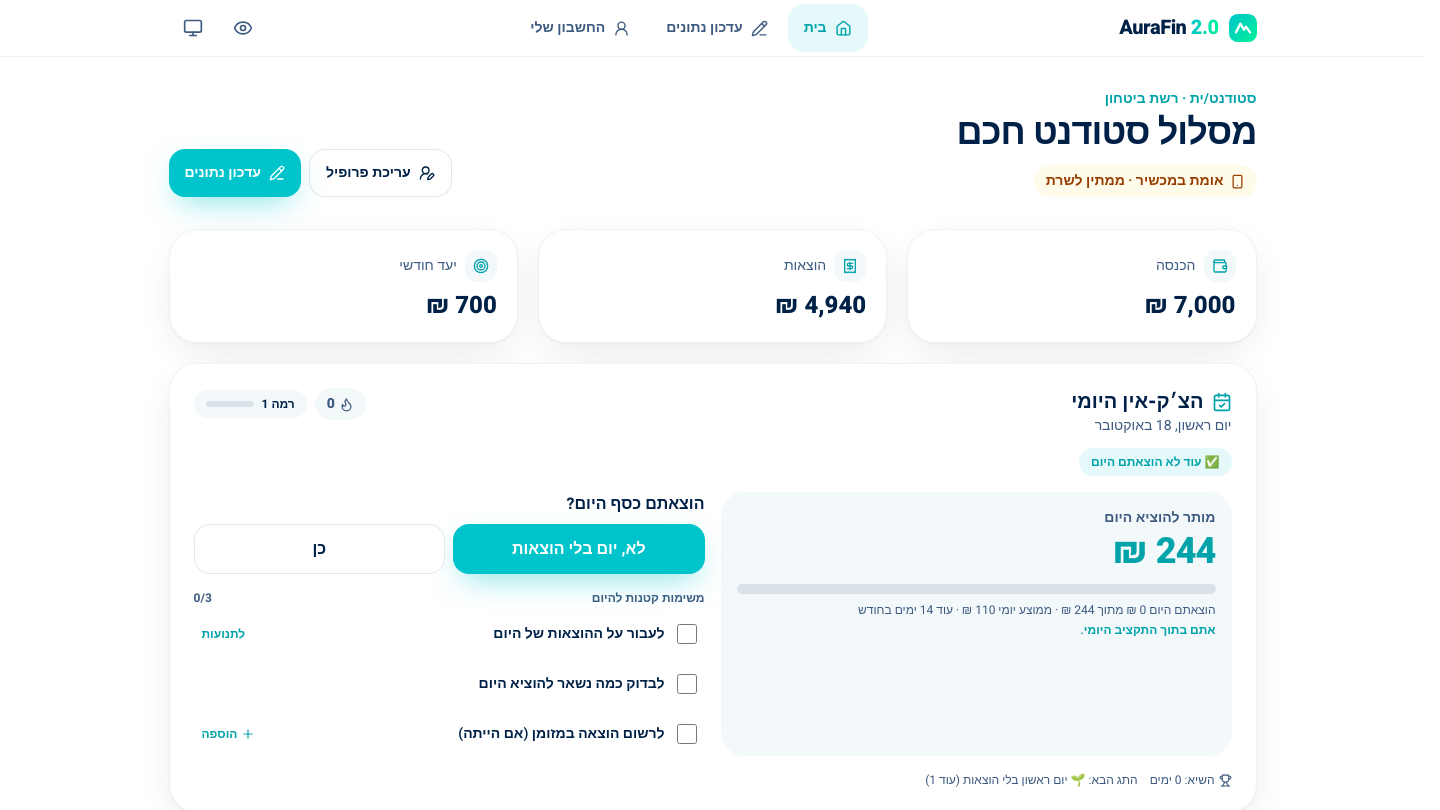
Test: "עדכון נתונים" (update data) from the dashboard › opens the gate with the saved values instead of crashing to a white screen
The image size is (1440, 810).
Expected: the heading "מסלול סטודנט חכם" is shown, [957, 113, 1256, 153]
Step 1. Click the 1st button "עדכון נתונים" → click(717, 28), box [650, 4, 784, 52]
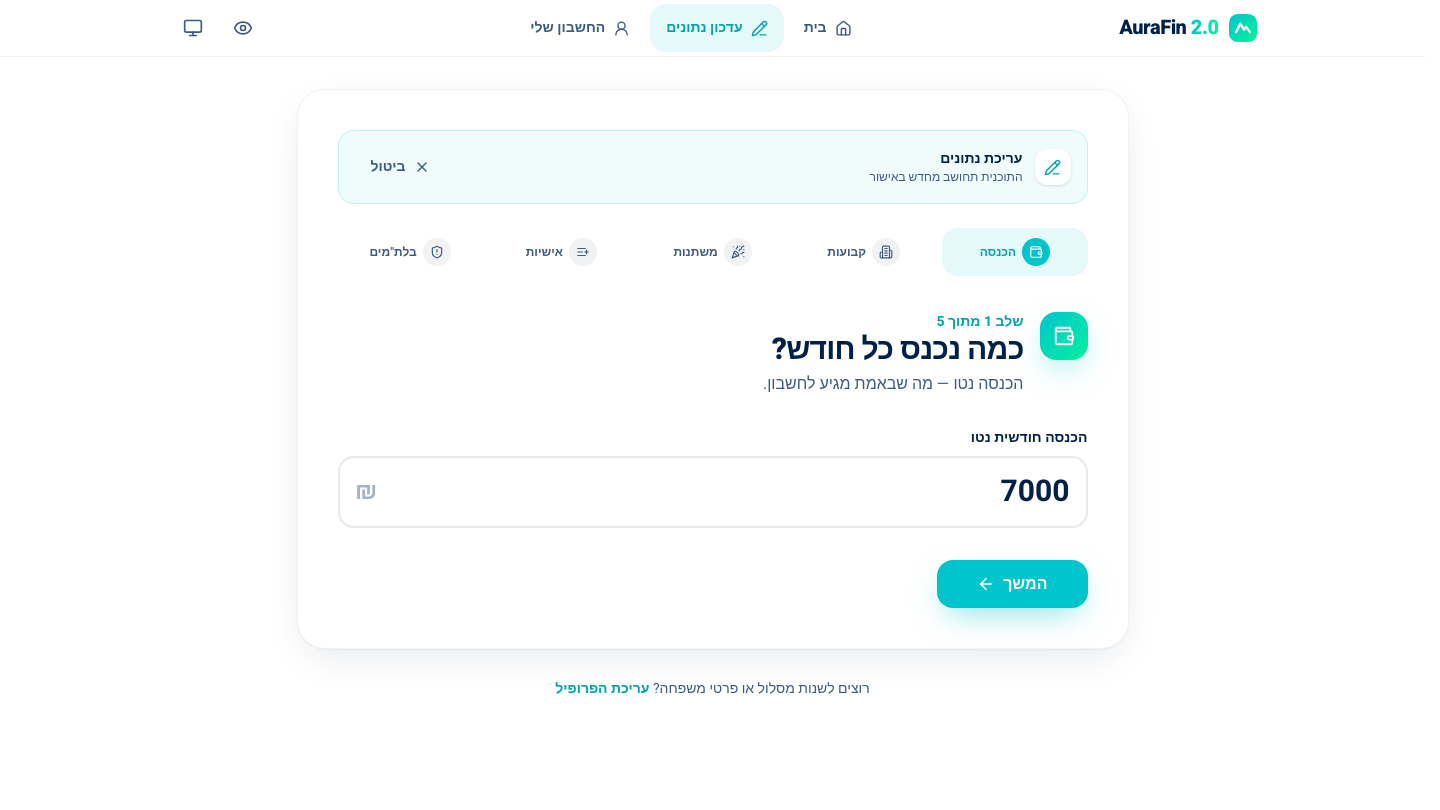
Result: the text "עריכת נתונים" is shown at [940, 148, 1022, 169]
Result: the field showing "7000" is shown at [377, 458, 1086, 526]
Note: Cancel returns to the dashboard with the data intact.
Step 2. Click the button with aria-label "ביטול העריכה וחזרה לדשבורד" → click(400, 167), box [354, 143, 446, 191]
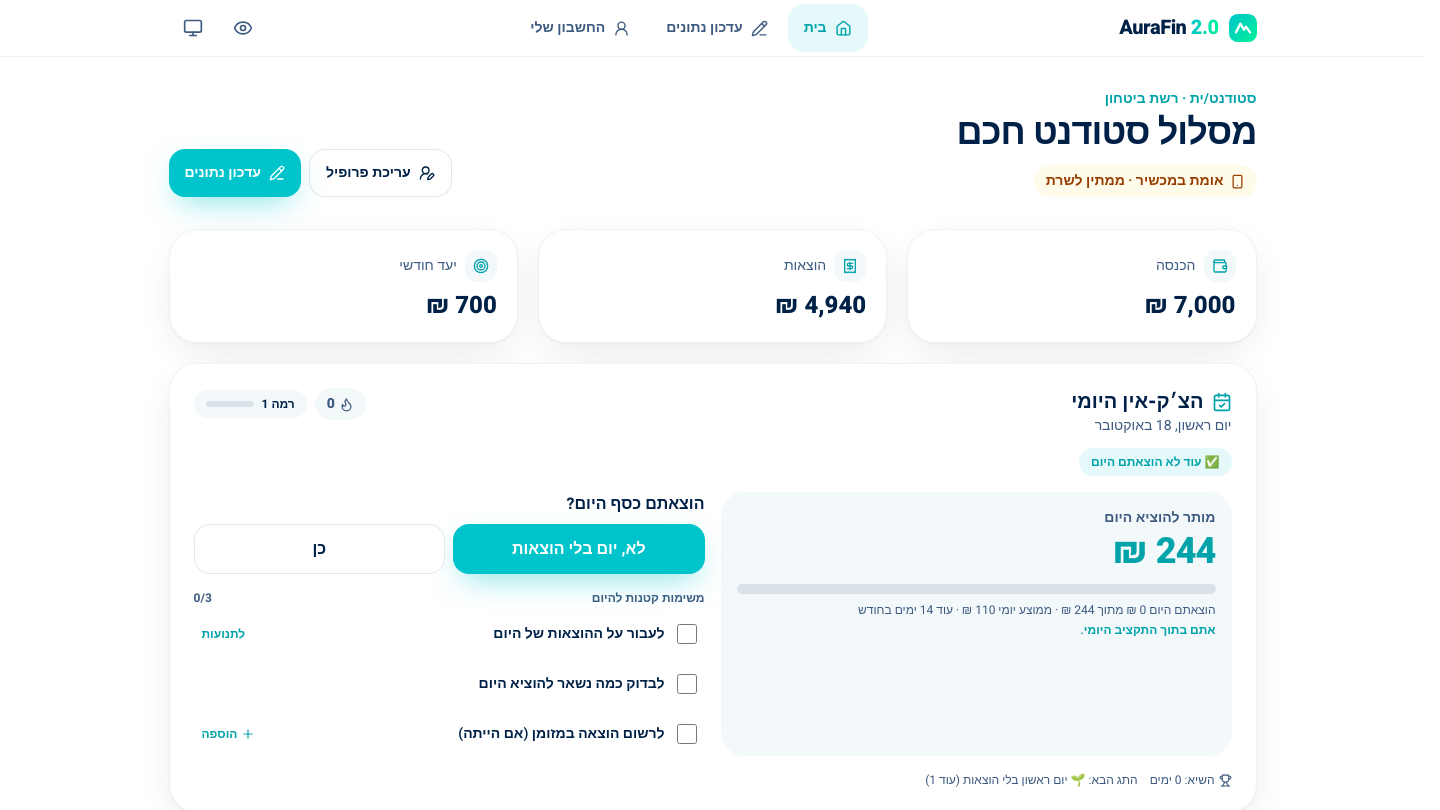
Result: the heading "מסלול סטודנט חכם" is shown at [957, 113, 1256, 153]
